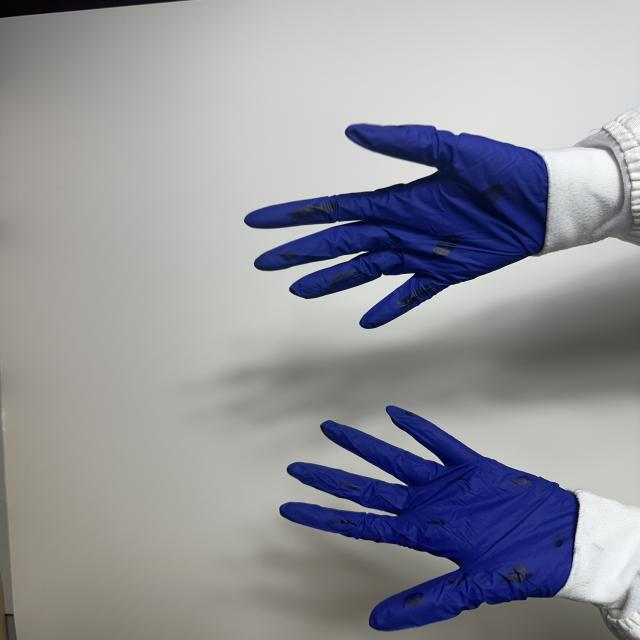gloves_contaminated: (280, 406, 578, 630), (245, 125, 548, 328)
